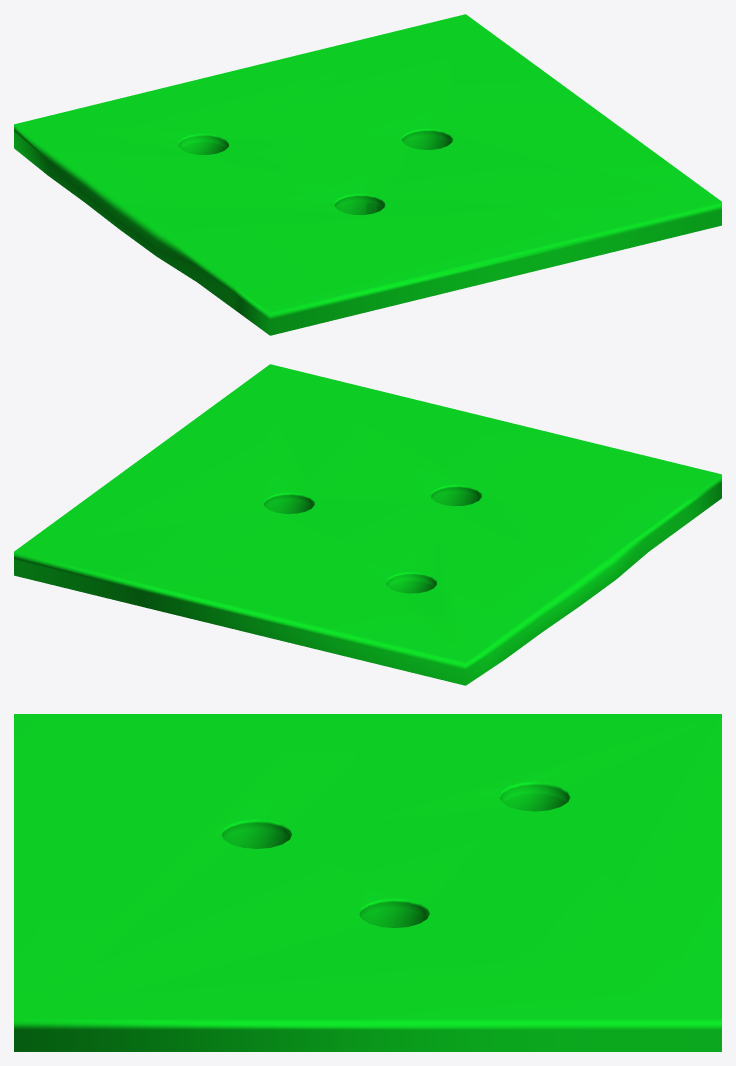
File: Lowpolyplatform.fbx
The picture shows the model from 3 angles, top to bottom: view 1: azimuth 30°, elevation 25°; view 2: azimuth 150°, elevation 25°; view 3: azimuth 270°, elevation 25°; orthographic projection. The views are drawn at different scales.
Parts seen in each view (by area): view 1: platform.002; view 2: platform.002; view 3: platform.002.
Boxes of the visible parts, x1,y1,x2,y2 form: platform.002: [14, 14, 721, 335]; platform.002: [14, 364, 721, 685]; platform.002: [14, 714, 721, 1051].
Bounding box in the file's own units: 1237 × 62.01 × 1204.
